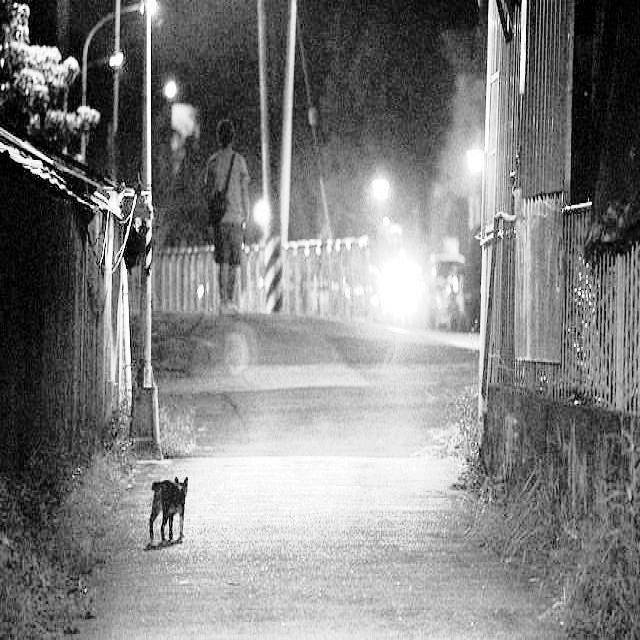Cat: (148, 475, 188, 542)
Person: (204, 115, 250, 315)
